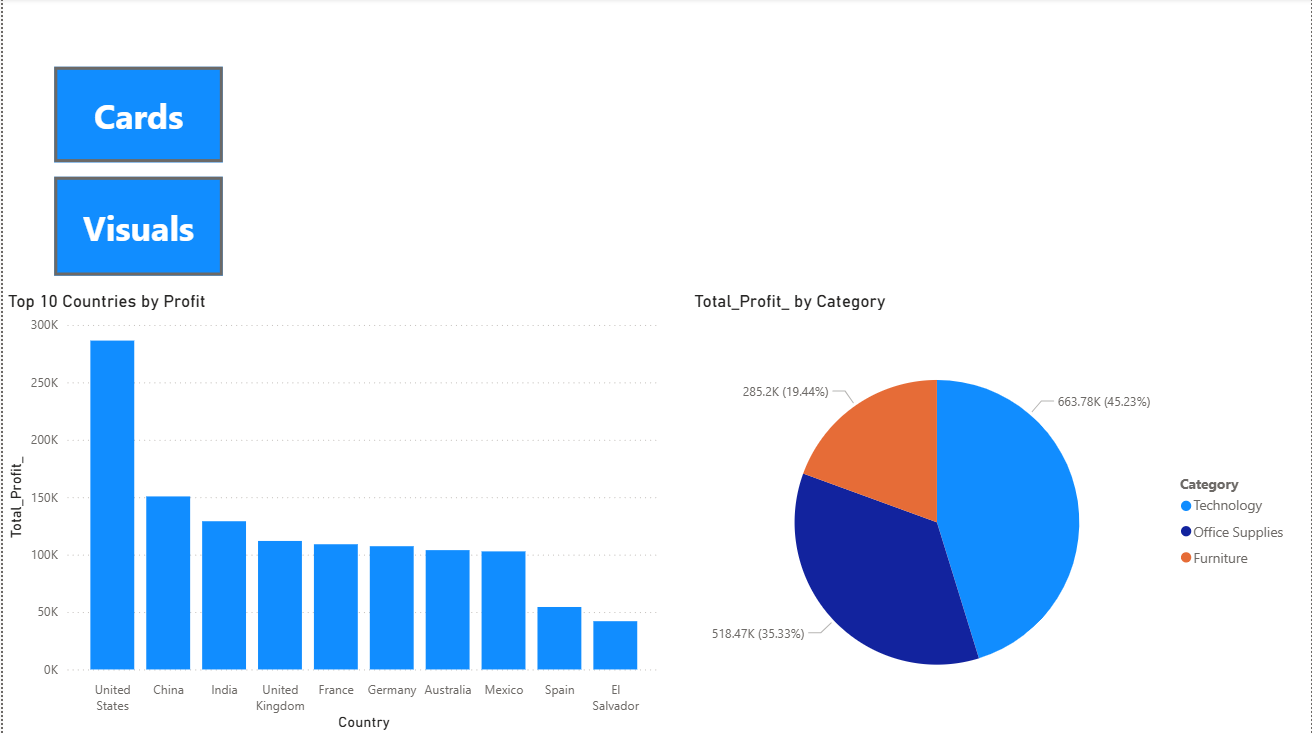

What the dashboard file says about the page in this screenshot:
{"tool":"powerbi","page":{"name":"Page 2","canvas":[1280,720],"ordinal":1},"visuals":[{"type":"columnChart","title":"Top 10 Countries by Profit","fields":{"Category":["Orders.Country"],"Y":["Orders.Total_Profit_"]},"box":[0,281.7,648.3,440],"z":0},{"type":"pieChart","fields":{"Category":["Orders.Category"],"Y":["Orders.Total_Profit_"]},"box":[671.7,281.7,595,438.3],"z":2000},{"type":"actionButton","box":[50,66.7,165,93.3],"z":4000},{"type":"actionButton","box":[50,175,165,96.7],"z":5000}]}

Visuals, with their boxes in screenshot pixels (x1, y1, x2, y2), scaled from the page's 1280x720 canvas onto the 1312x733 screenshot:
"Top 10 Countries by Profit" columnChart: select_region(0, 287, 665, 732)
pieChart - Orders.Category x Orders.Total_Profit_: select_region(688, 287, 1298, 732)
actionButton: select_region(51, 68, 220, 163)
actionButton: select_region(51, 178, 220, 277)
